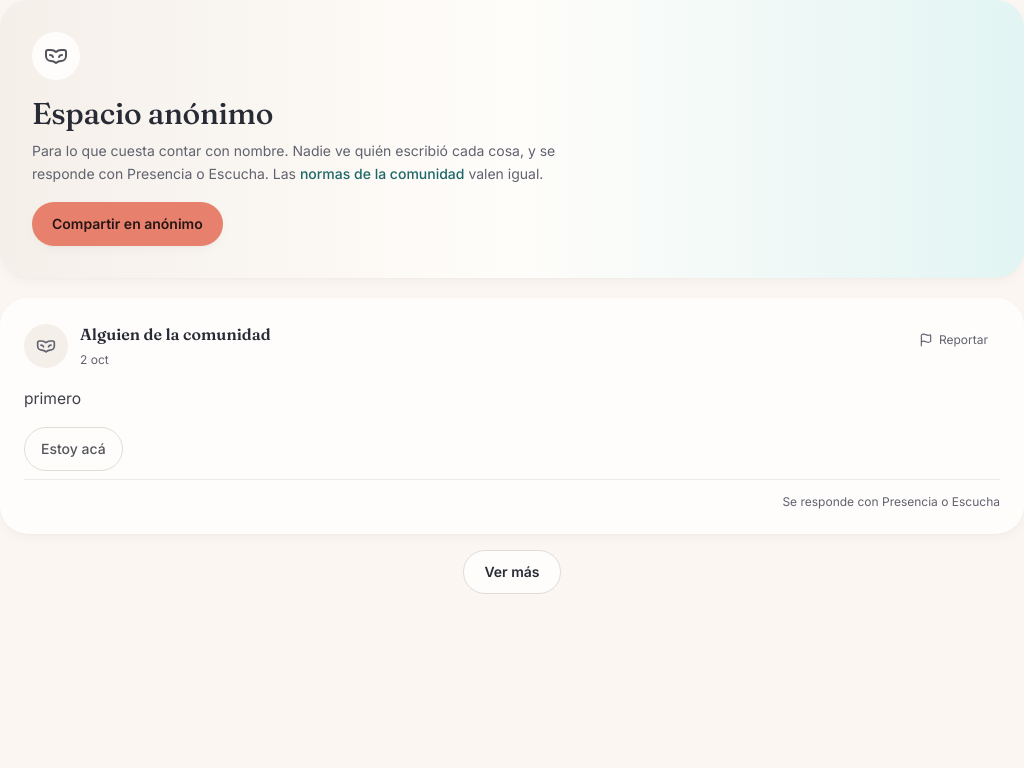
AnonymousSpacePage › lists anonymous posts and loads more
The width and height of the screenshot is (1024, 768).
Expected: the text "primero" is shown, left=24, top=388, right=81, bottom=408
Click the button "Ver más": (512, 572) left=464, top=550, right=561, bottom=594
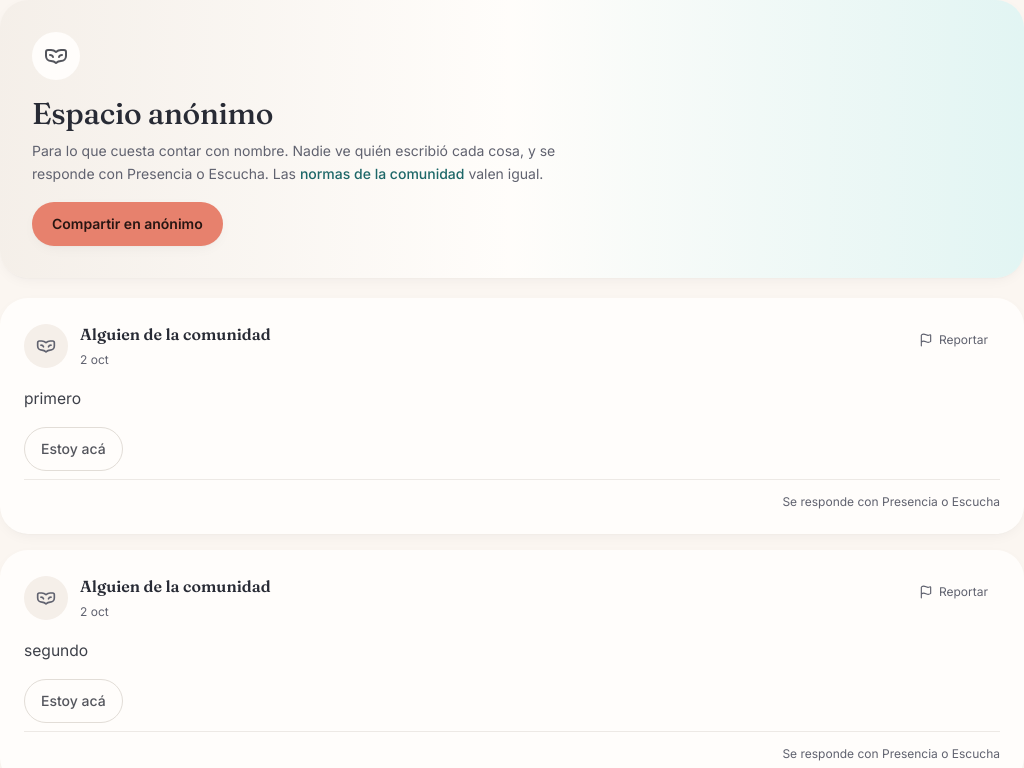
Expected: the text "segundo" is shown, left=24, top=641, right=88, bottom=660
Expected: the button "Ver más" is gone
